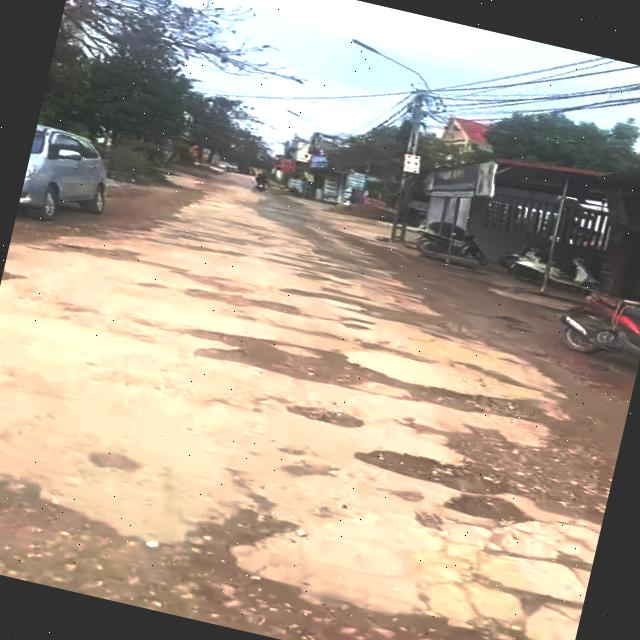pothole: (0, 467, 581, 640), (332, 392, 617, 526), (176, 317, 385, 403), (394, 362, 581, 440), (282, 280, 482, 344), (36, 227, 173, 279), (421, 478, 537, 534), (529, 346, 637, 406), (186, 279, 311, 325), (457, 356, 544, 394), (358, 338, 434, 366)
